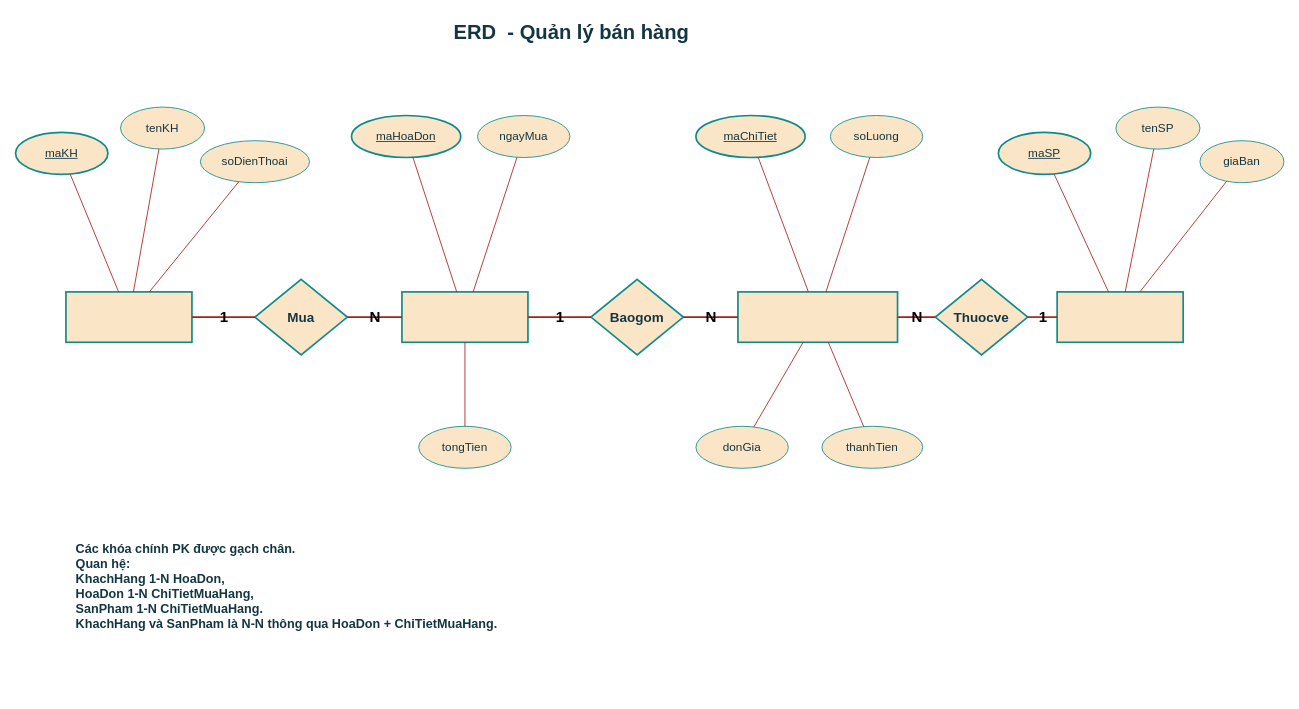
The diagram is 1299 pixels wide and 709 high, and some of its shapes have lost their labels. Each missing label, with the centre of its shape:
ChiTietMuaHang: the point at 817,317
HoaDon: the point at 464,317
KhachHang: the point at 128,317
SanPham: the point at 1120,317
